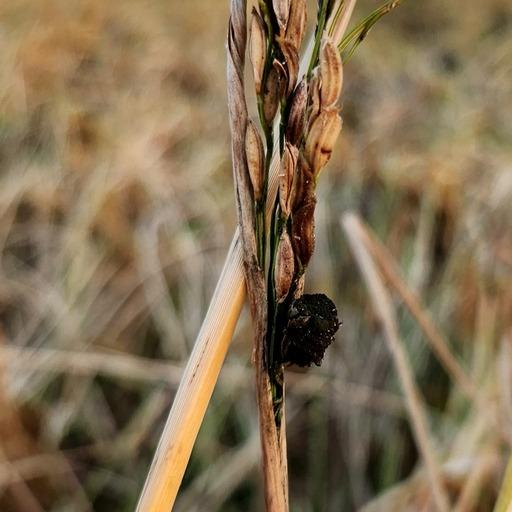Leaf_Scald: (270, 294, 352, 383)
